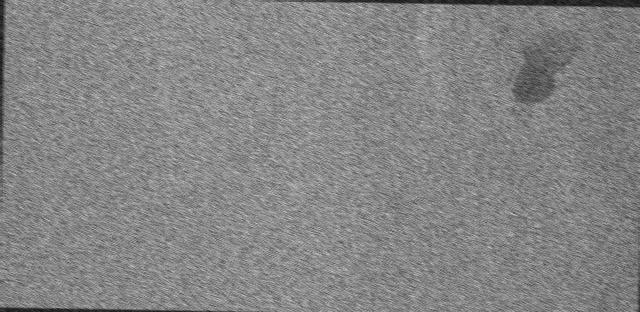oil_spot: (494, 17, 585, 110)
